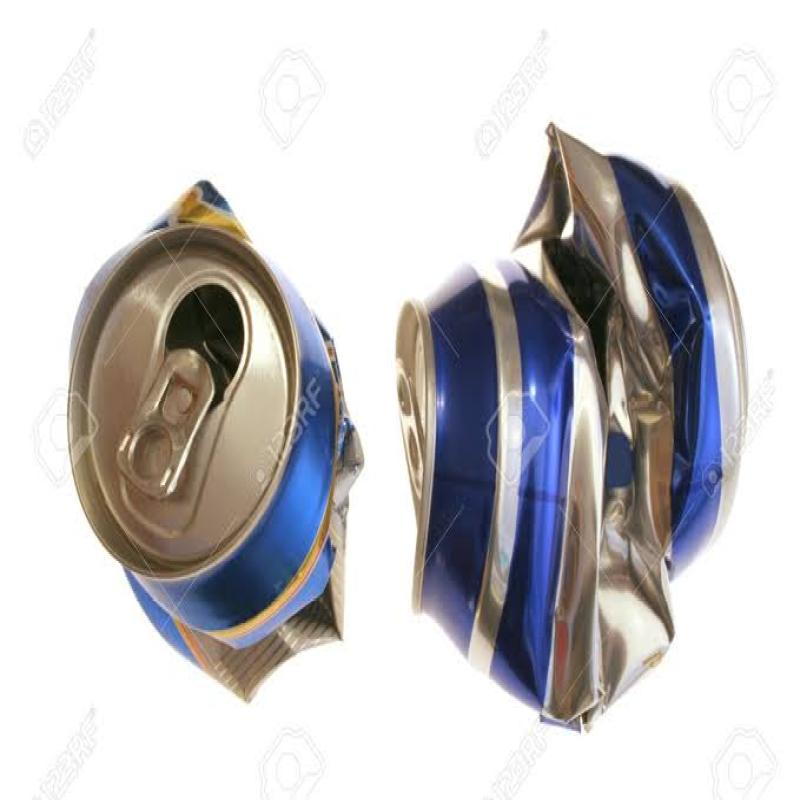aluminum: (394, 124, 753, 736), (66, 181, 364, 706)
